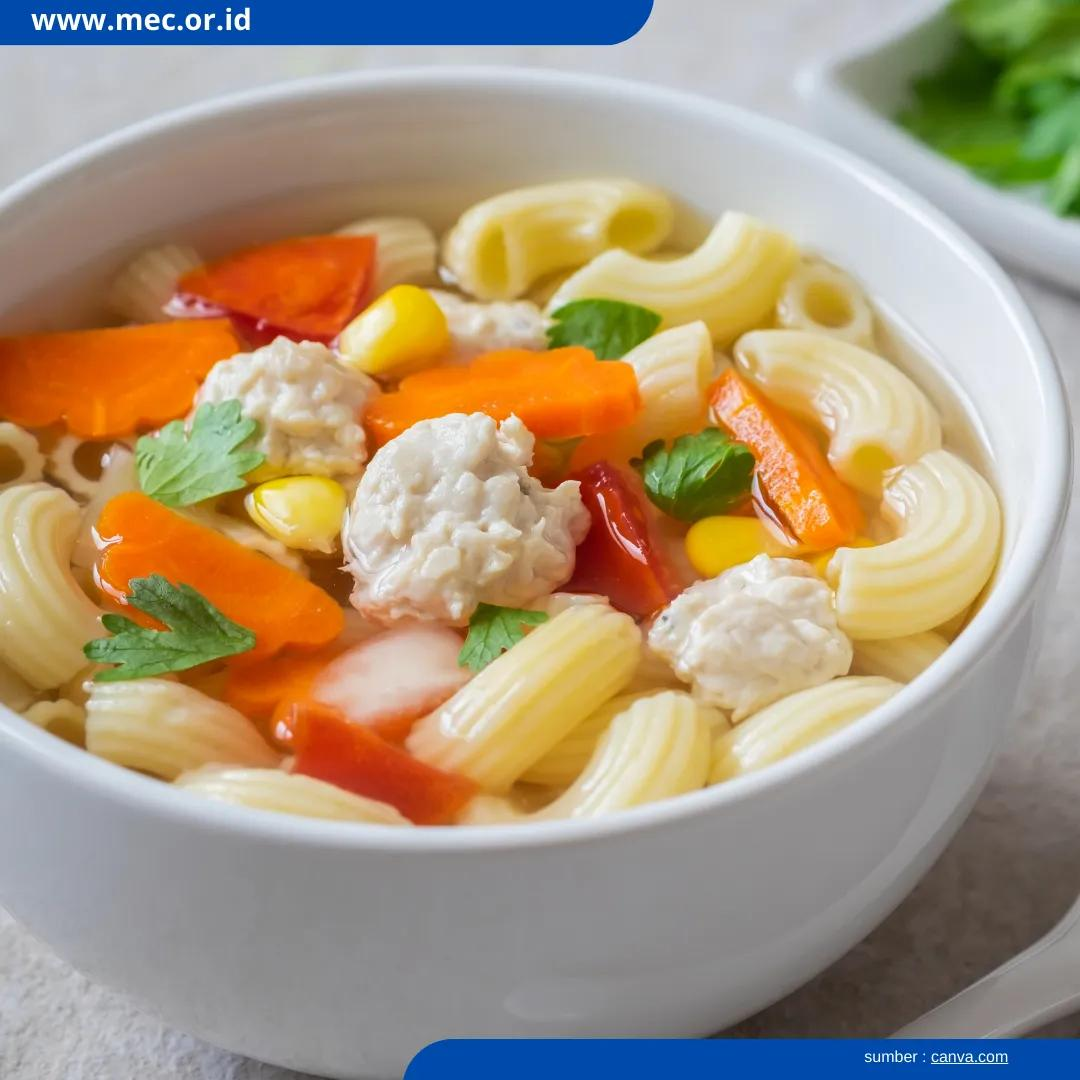buah_sayur_vitA: (2, 316, 194, 418)
daging: (385, 436, 522, 596)
